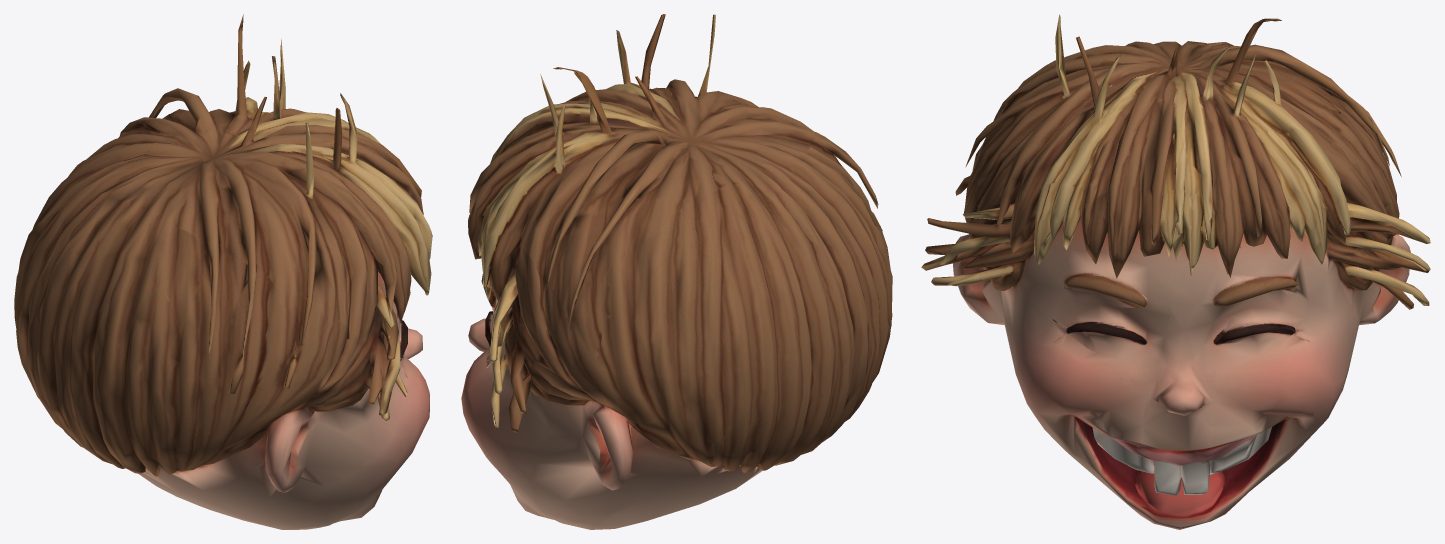
Rendered from theo-head.glb.
The picture shows the model from 3 angles, left to right: view 1: azimuth 30°, elevation 25°; view 2: azimuth 150°, elevation 25°; view 3: azimuth 270°, elevation 25°; orthographic projection. The views are drawn at different scales.
Parts seen in each view (by area): view 1: theo; view 2: theo; view 3: theo.
Boxes of the visible parts, x1,y1,x2,y2 form: theo: [14, 14, 432, 529]; theo: [461, 14, 892, 529]; theo: [921, 14, 1430, 529].
Size of the model in its own units: 0.8062 by 0.9793 by 0.9368.
1 material, 1 textured.
